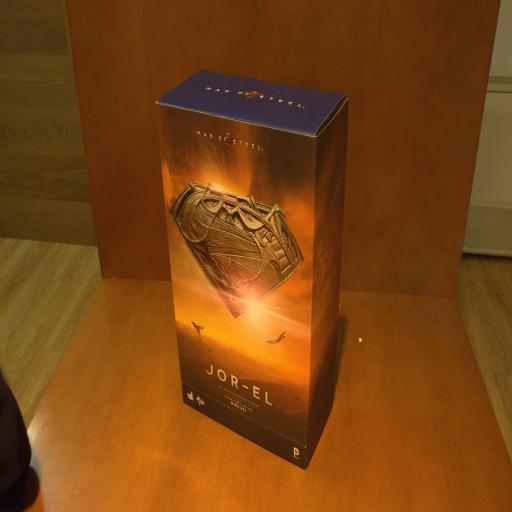superman: (159, 66, 351, 470)
